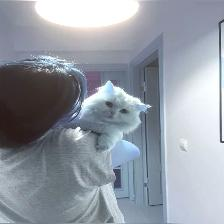kedo: (68, 80, 152, 151)
